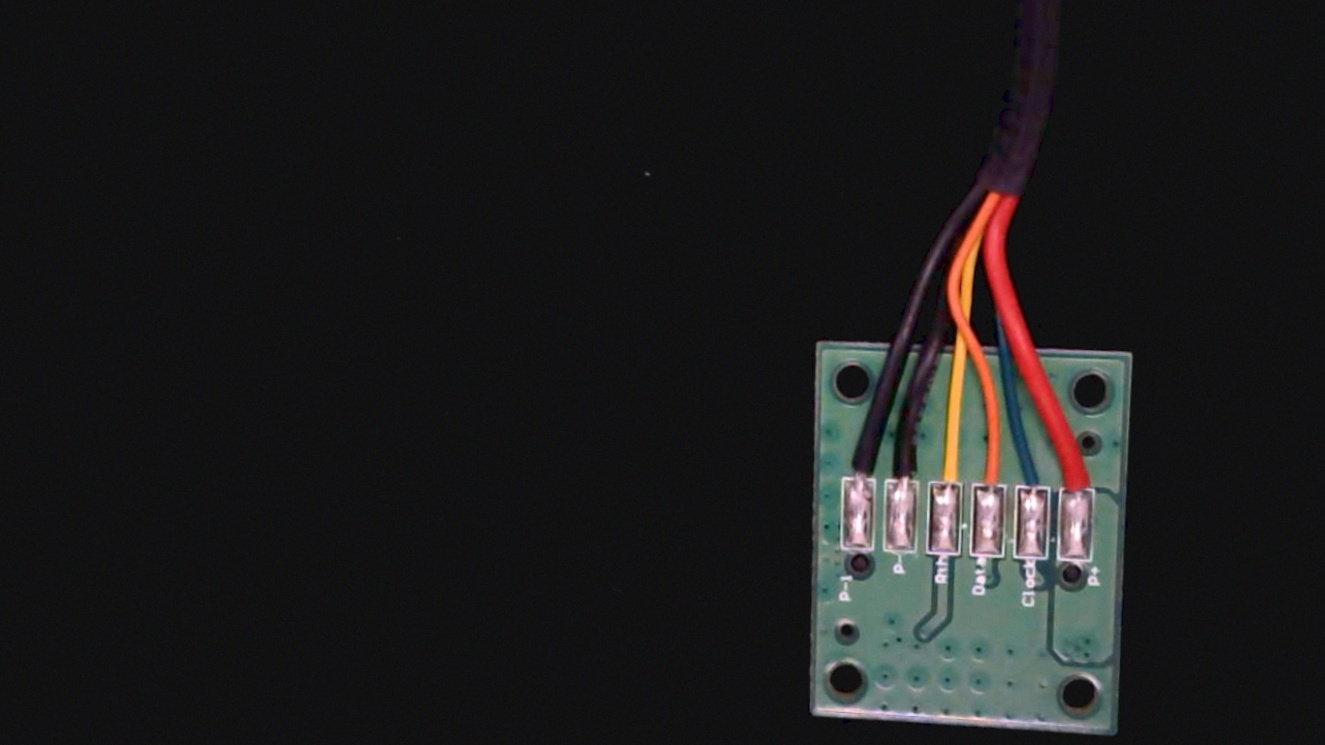Black: (887, 422, 921, 503)
Black1: (841, 431, 880, 499)
Green: (1017, 437, 1053, 511)
Orange: (973, 435, 1010, 506)
Red: (1061, 438, 1101, 512)
Yellow: (929, 425, 968, 506)
